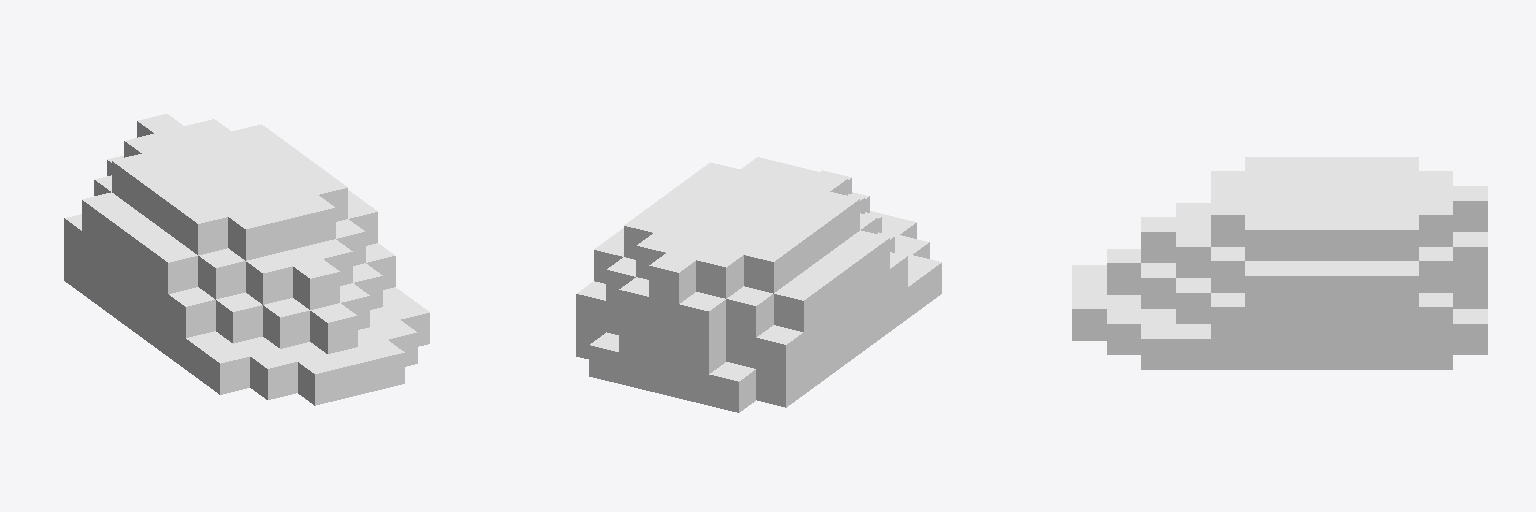
Rendered from fuß.obj.
3 views of the same model, side by side, from view 1: azimuth 30°, elevation 25°; view 2: azimuth 150°, elevation 25°; view 3: azimuth 270°, elevation 25° (orthographic).
Visible parts, largest first — view 1: object 1; view 2: object 1; view 3: object 1.
Part boxes in pixels (left/top/right/bottom): object 1: left=64, top=114, right=429, bottom=405; object 1: left=576, top=157, right=941, bottom=412; object 1: left=1072, top=157, right=1487, bottom=369.
Bounding box in the file's own units: 0.7 × 0.4 × 1.2.